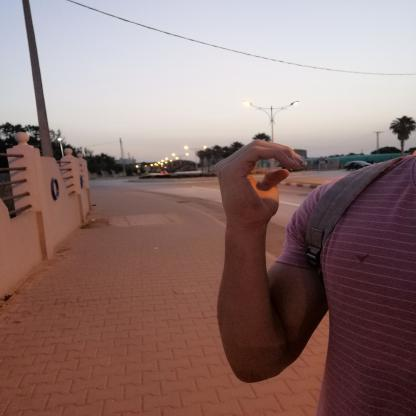JEEM: (196, 132, 316, 230)
